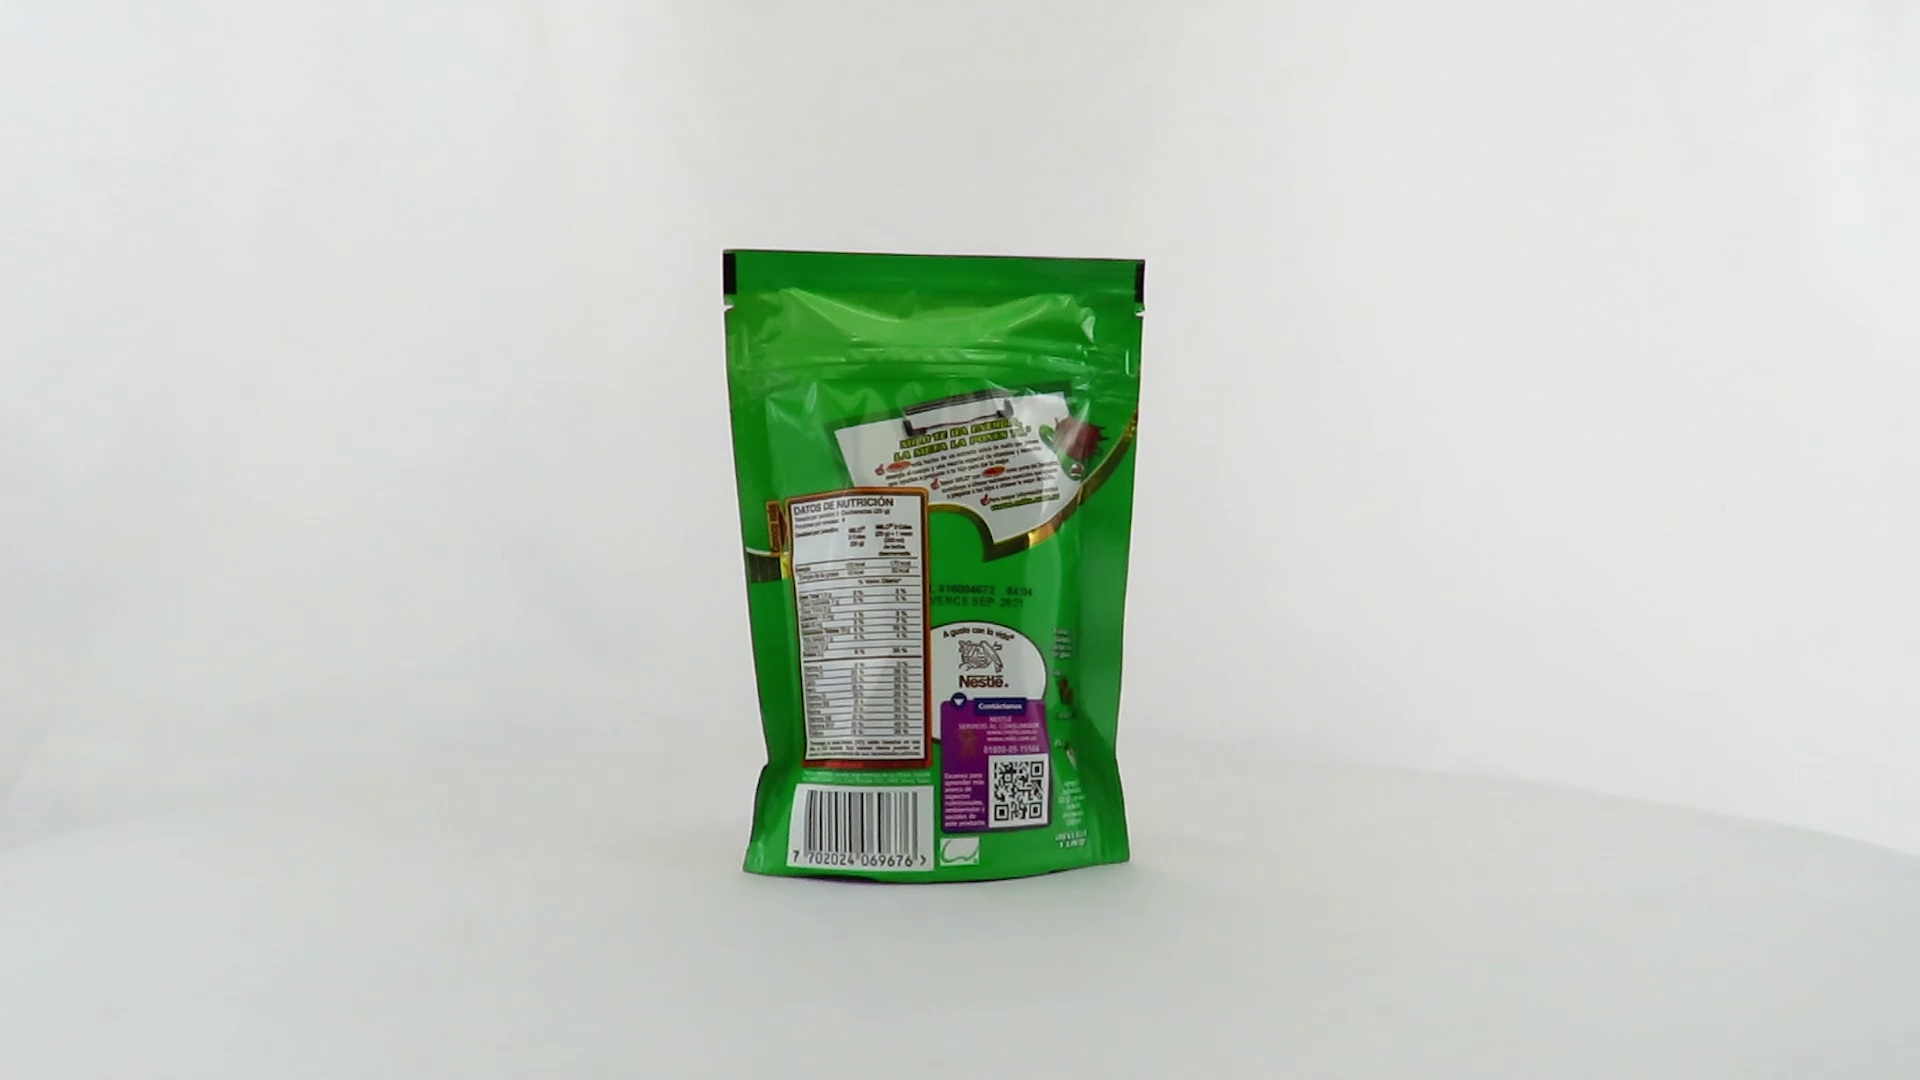COL0170203DYP10000: (717, 244, 1153, 891)
